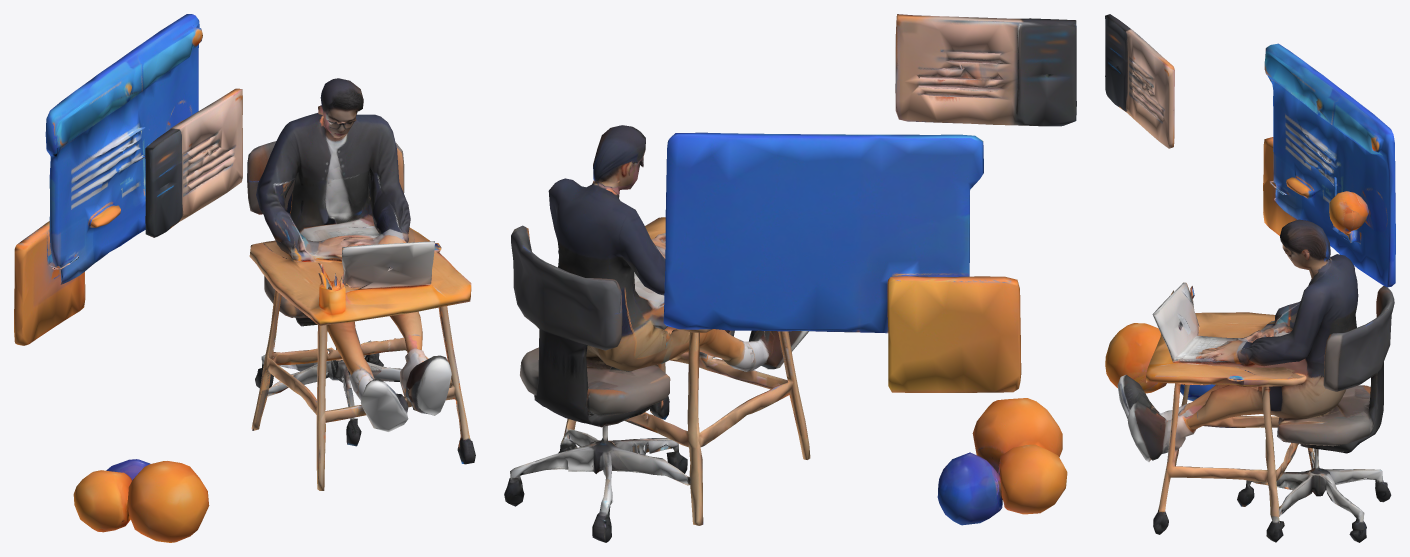
The model's file is web_dev3.glb.
3 views of the same model, side by side, from view 1: azimuth 30°, elevation 25°; view 2: azimuth 150°, elevation 25°; view 3: azimuth 270°, elevation 25° (orthographic). The views are drawn at different scales.
Bounding box in the file's own units: 2 × 1.92 × 1.36.
Materials: 1 (1 with a texture image).
